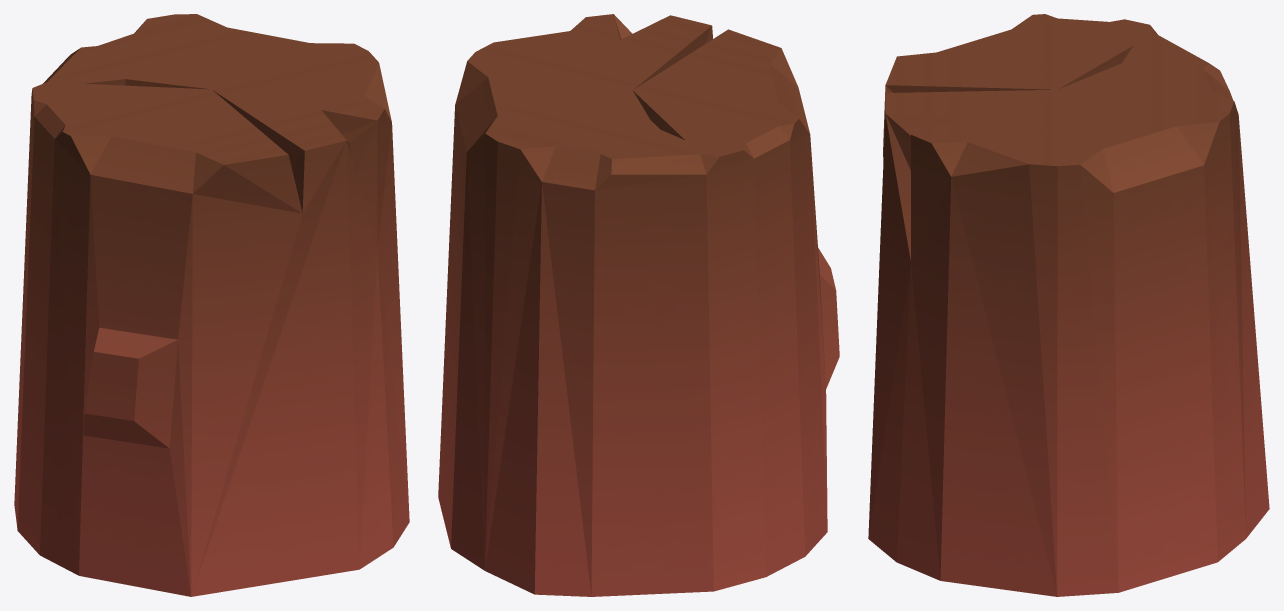
The model's file is choppingblock.glb.
3 views of the same model, side by side, from view 1: azimuth 30°, elevation 25°; view 2: azimuth 150°, elevation 25°; view 3: azimuth 270°, elevation 25° (orthographic).
Parts seen in each view (by area): view 1: ChoppingBlock; view 2: ChoppingBlock; view 3: ChoppingBlock.
Part boxes in pixels (bbox=[...]): ChoppingBlock: bbox=[14, 14, 409, 596]; ChoppingBlock: bbox=[438, 14, 839, 596]; ChoppingBlock: bbox=[868, 14, 1269, 596].
Size of the model in its own units: 0.474 by 0.5577 by 0.4789.
Materials: 1 (1 with a texture image).
